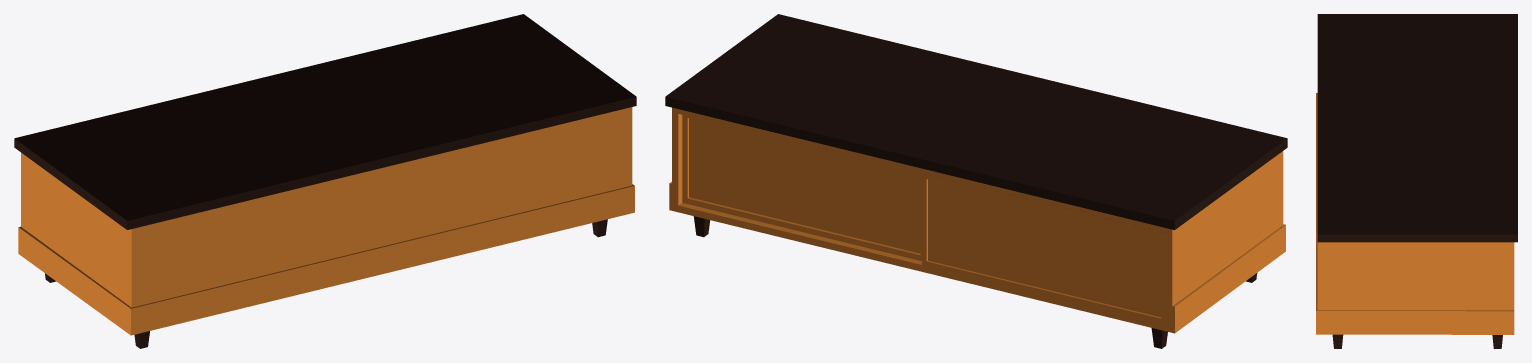
The model's file is TV Stand.fbx.
3 renders of one model, left to right at view 1: azimuth 30°, elevation 25°; view 2: azimuth 150°, elevation 25°; view 3: azimuth 270°, elevation 25°, orthographic. The views are drawn at different scales.
Visible parts, largest first — view 1: Node 0; view 2: Node 0; view 3: Node 0.
Part boxes in pixels (x1,y1,x2,y2): Node 0: (14,14,636,348); Node 0: (665,14,1287,348); Node 0: (1316,14,1517,348).
Size of the model in its own units: 0.5736 by 0.3892 by 1.48.
